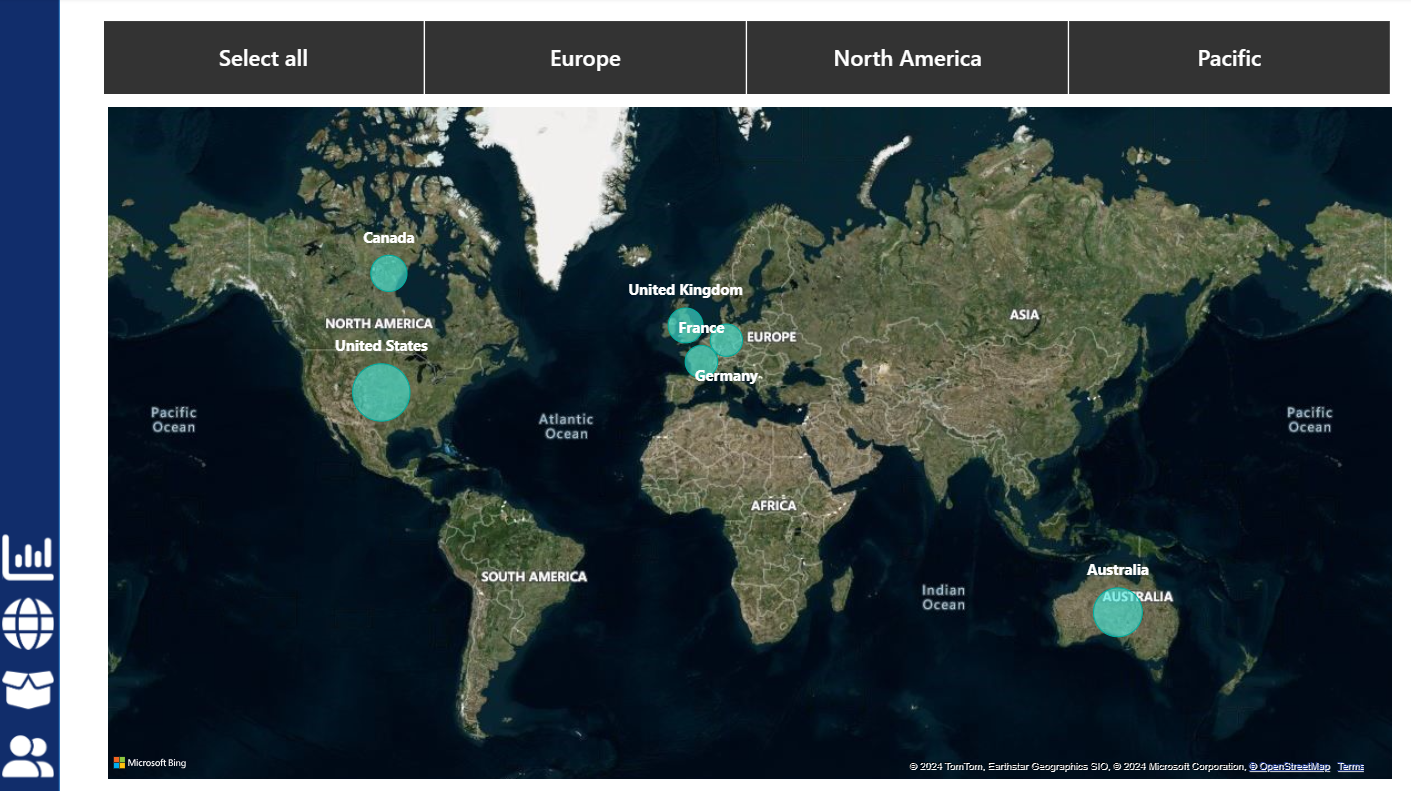

The dashboard page shown, as its layout file describes it:
{"tool":"powerbi","page":{"name":"Map","canvas":[1280,720],"ordinal":1},"visuals":[{"type":"shape","title":"Left Nav Bg","box":[0,0,57.5,720],"z":0},{"type":"map","fields":{"Category":["Territory Lookup.Country"],"Size":["Measure Table.Total Orders"]},"box":[95.4,94.2,1167.8,615.1],"z":1000},{"type":"slicer","fields":{"Values":["Territory Lookup.Continent"]},"box":[70.9,14.7,1209.4,79.5],"z":2000},{"type":"actionButton","box":[0,478.1,57.5,55],"z":3000},{"type":"actionButton","box":[0,656.7,57.5,55],"z":4000},{"type":"actionButton","box":[0,597.1,57.5,55],"z":5000},{"type":"actionButton","box":[0,537.6,57.5,55],"z":6000}]}

Visuals, with their boxes on the page's 1280x720 design canvas (x1, y1, x2, y2). These are canvas units, not pixel positions in the 1411x791 screenshot, which may show the page scaled, cropped or inside an application window:
"Left Nav Bg" shape: locate(0, 0, 58, 720)
map - Territory Lookup.Country x Measure Table.Total Orders: locate(95, 94, 1263, 709)
slicer - Territory Lookup.Continent: locate(71, 15, 1280, 94)
actionButton: locate(0, 478, 58, 533)
actionButton: locate(0, 657, 58, 712)
actionButton: locate(0, 597, 58, 652)
actionButton: locate(0, 538, 58, 593)
